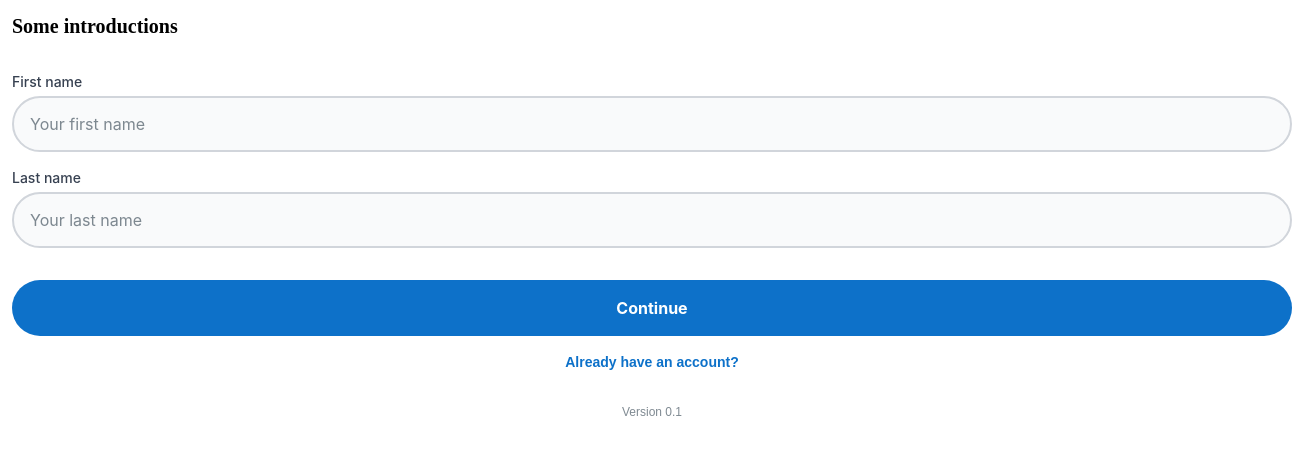
it: Step One Component › shows validation error if fields are empty
Note: Click the "Continue" button to submit the form.
Click the button "Continue" at [652, 308], box [12, 280, 1292, 336]
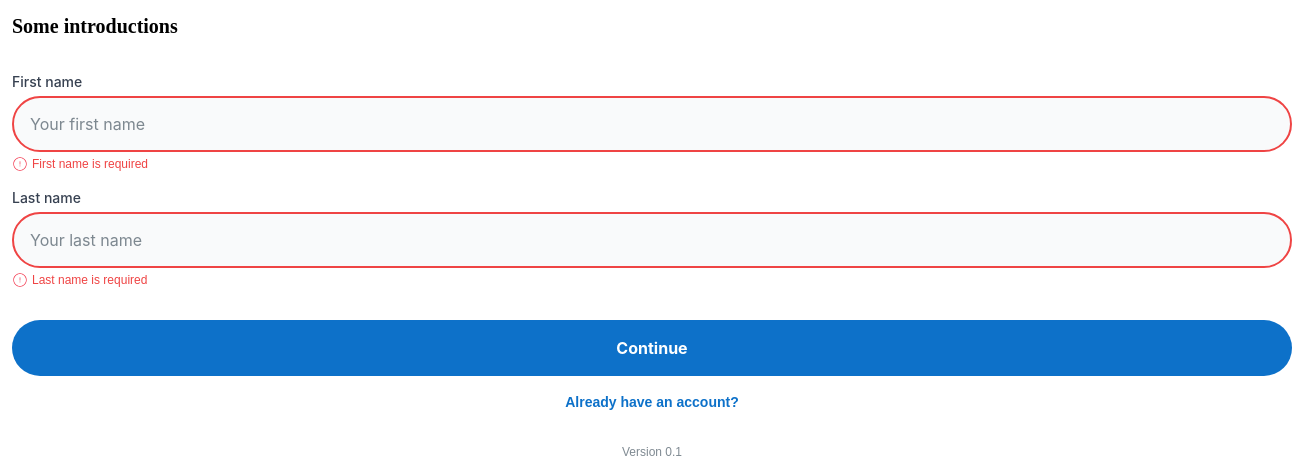
Check: the text "First name is required" is shown, box [12, 156, 148, 172]
Check: the text "Last name is required" is shown, box [12, 272, 147, 288]
